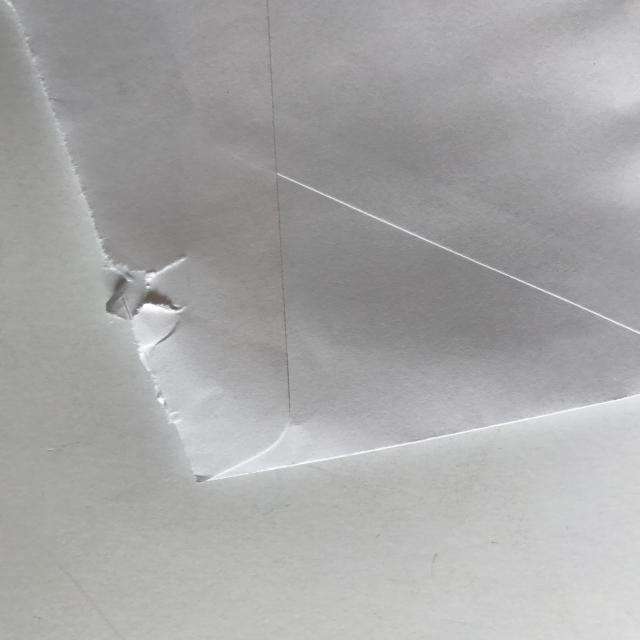paper: (0, 0, 640, 490)
